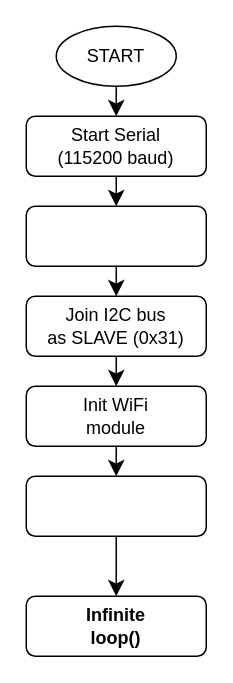
Image size: 233x683. Some labels were removed from this diagram. The shapes that lost their labels are listed below. From the top down, each one's centre as x and y in pixels, then its label:
the point at 115,235: Init I2C
the point at 115,505: Start local webserver
